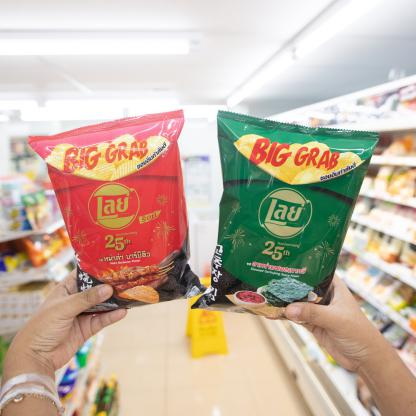potatochip: (191, 108, 381, 328), (33, 110, 208, 313)
